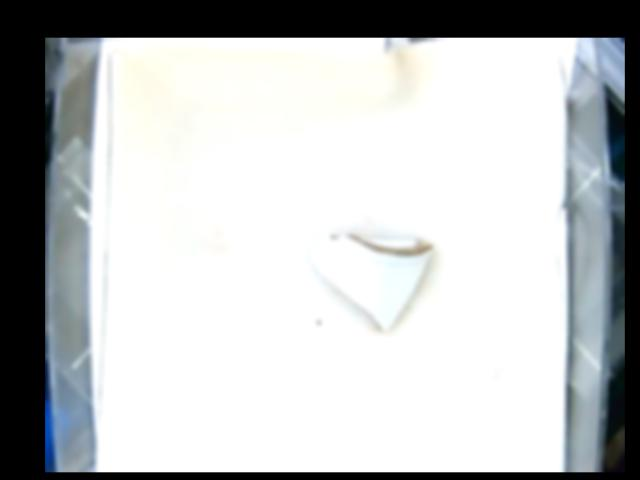China: (309, 232, 432, 333)
